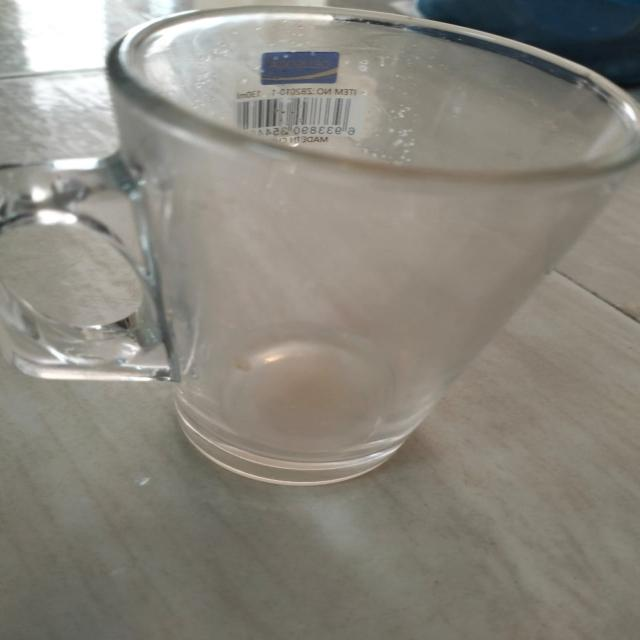glass-VX4N: (5, 2, 640, 484)
